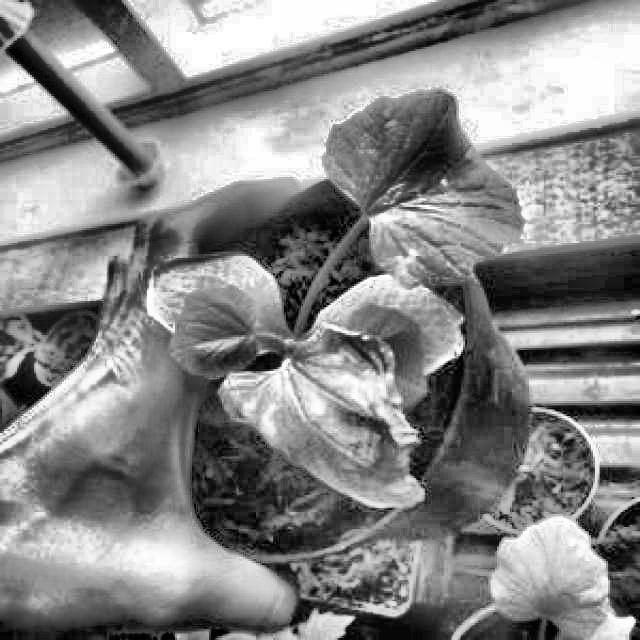plants: (176, 83, 527, 534), (224, 319, 436, 514)
